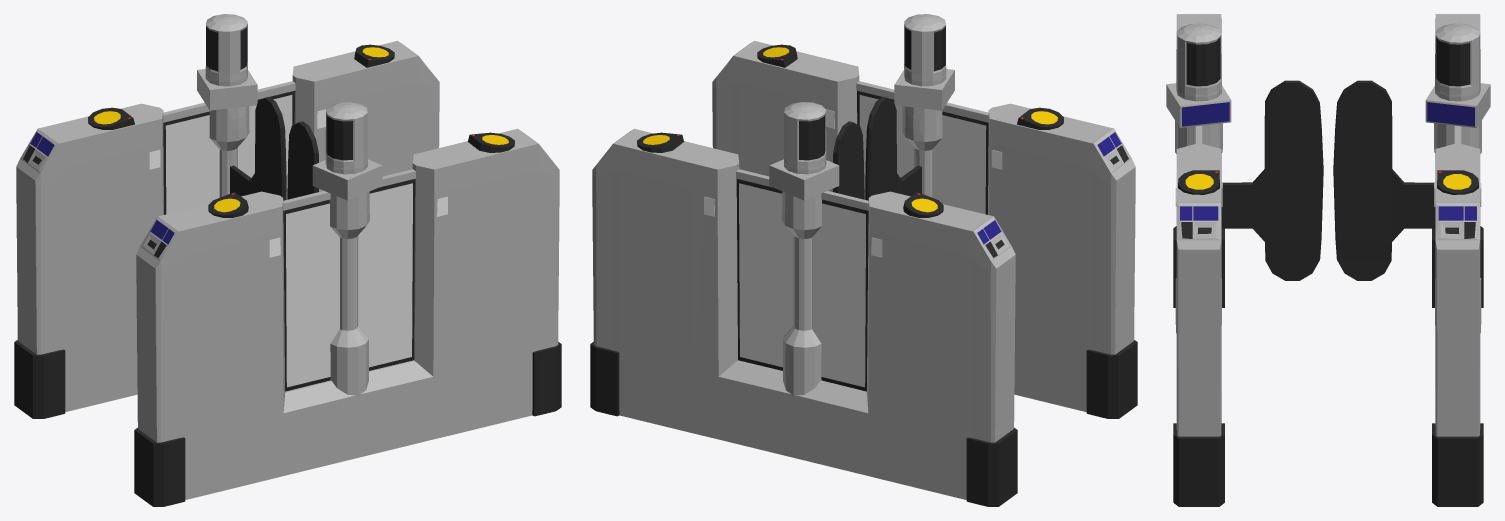
File: TicketGate.fbx
The picture shows the model from 3 angles, left to right: view 1: azimuth 30°, elevation 25°; view 2: azimuth 150°, elevation 25°; view 3: azimuth 270°, elevation 25°; orthographic projection. The views are drawn at different scales.
Visible parts, largest first — view 1: TicketGate; view 2: TicketGate; view 3: TicketGate.
Part boxes in pixels (<box>): TicketGate: <box>14,14,561,506</box>; TicketGate: <box>590,14,1137,506</box>; TicketGate: <box>1166,14,1490,506</box>.
Bounding box in the file's own units: 342 × 431 × 535.
